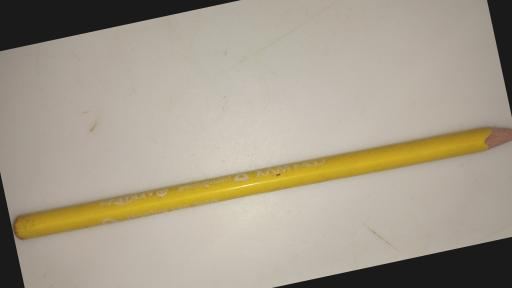Pencil: (10, 113, 512, 250)
